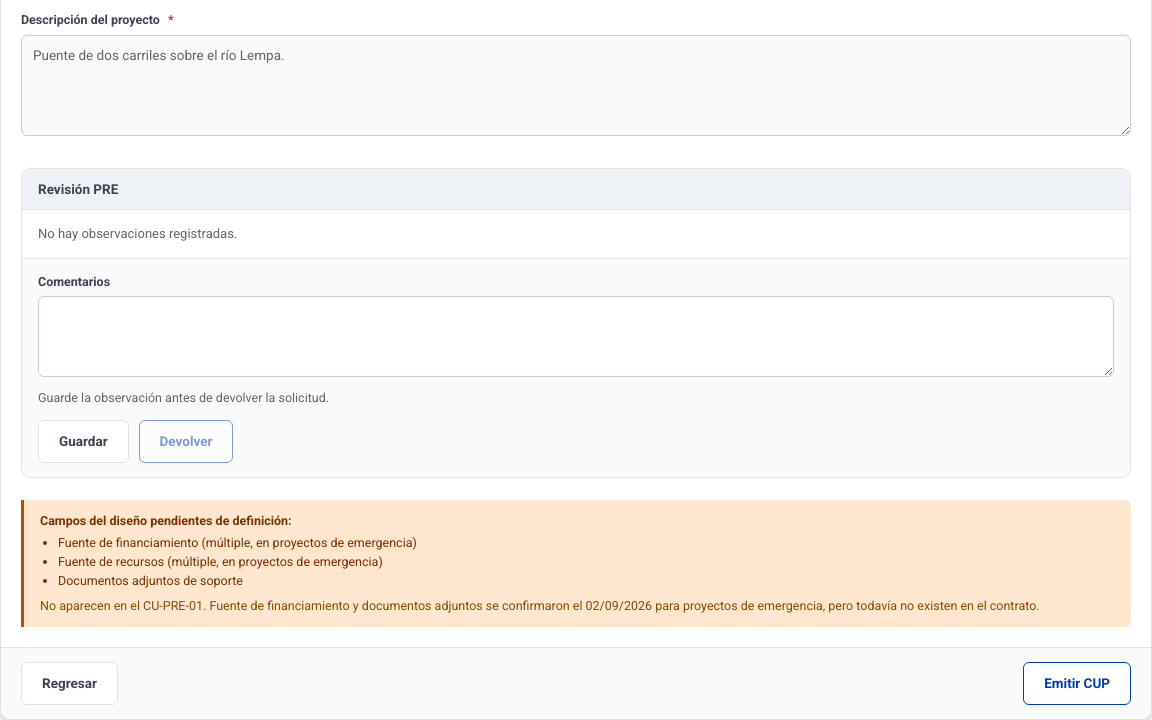
Scenario: ProyectoFormPage — solicitud archivada › devolver una solicitud (Técnico PRE) › exige guardar antes de devolver
(page scrolled)
Expected: the text box labelled "Comentarios" is shown, [38,296,1114,377]
Expected: the button "Devolver" is disabled, [139,420,234,463]
Click the button "Guardar".
click(83, 441)  # box [38,420,129,463]
(page scrolled)
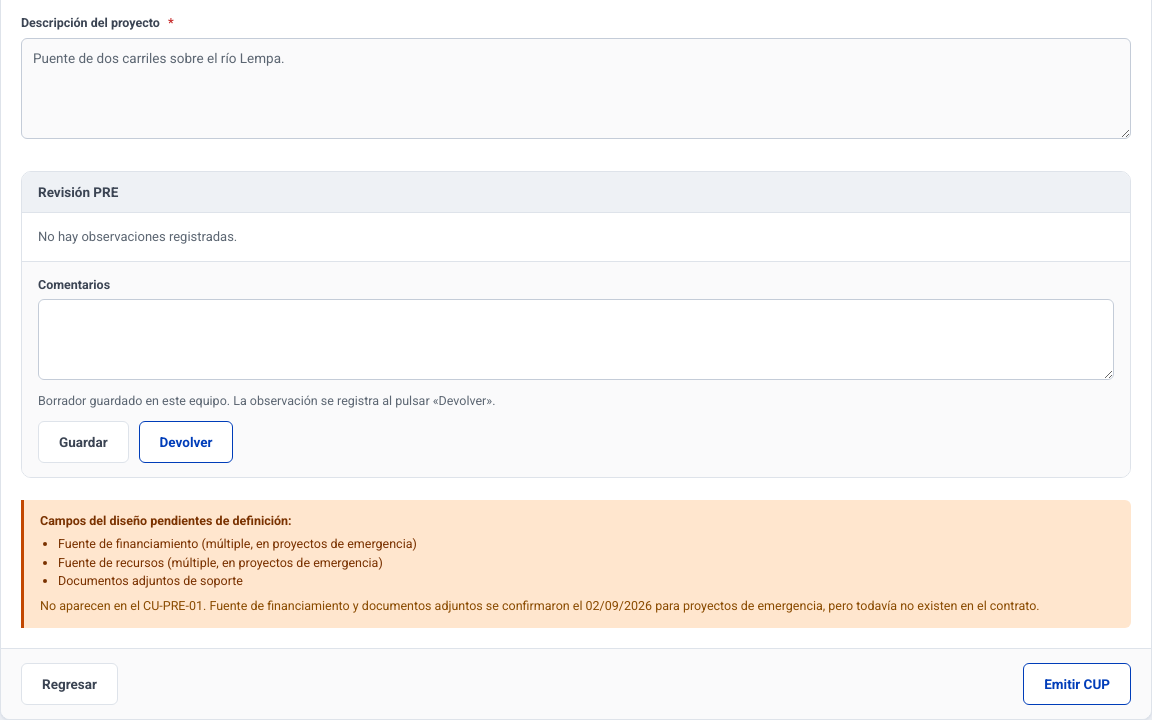
Expected: the button "Devolver" is enabled, [139,421,234,463]
